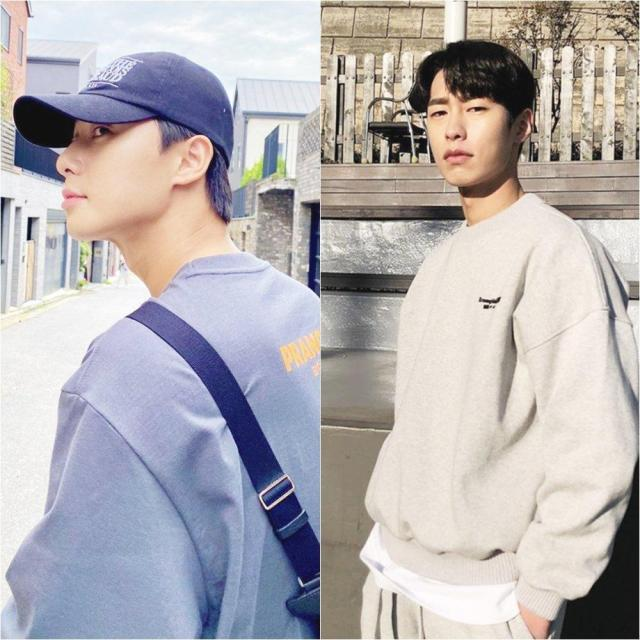sweater: (0, 252, 319, 640), (361, 191, 640, 623)
